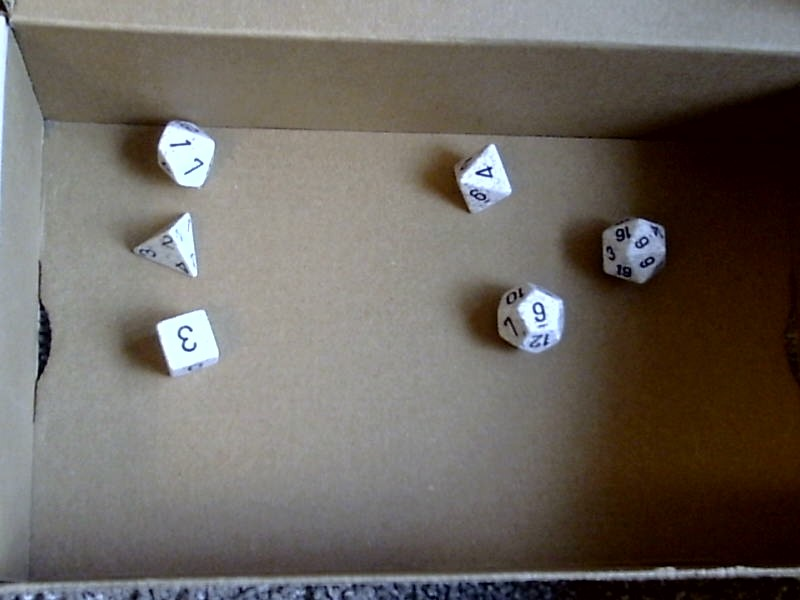d10 1: (146, 114, 216, 190)
d12 9: (486, 272, 576, 364)
d20 6: (596, 210, 668, 292)
d4 2: (129, 208, 202, 279)
d6 3: (150, 306, 225, 385)
d8 4: (443, 135, 517, 218)
